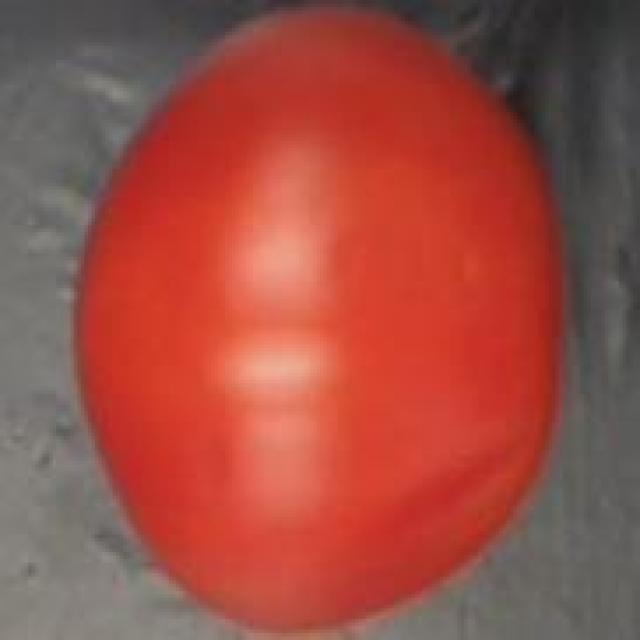ripe tomato: (67, 0, 573, 640)
